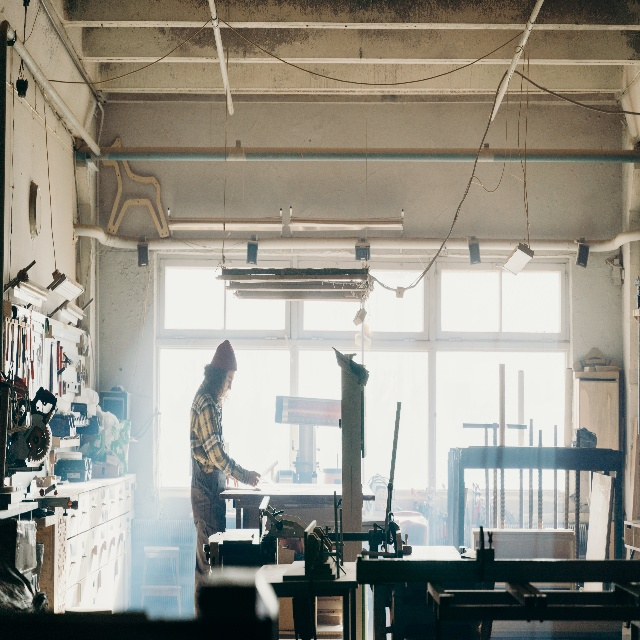Sin_guantes: (226, 475, 239, 490), (248, 469, 259, 486)
